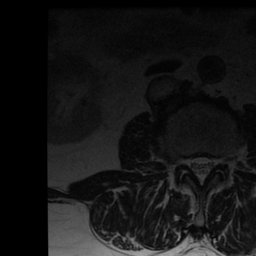CCS_normal: (197, 146, 205, 191)
LFS_stenosis: (214, 150, 224, 174)
LLS_normal: (205, 151, 214, 178)
RFS_stenosis: (181, 148, 189, 176)
RLS_normal: (189, 151, 197, 177)
